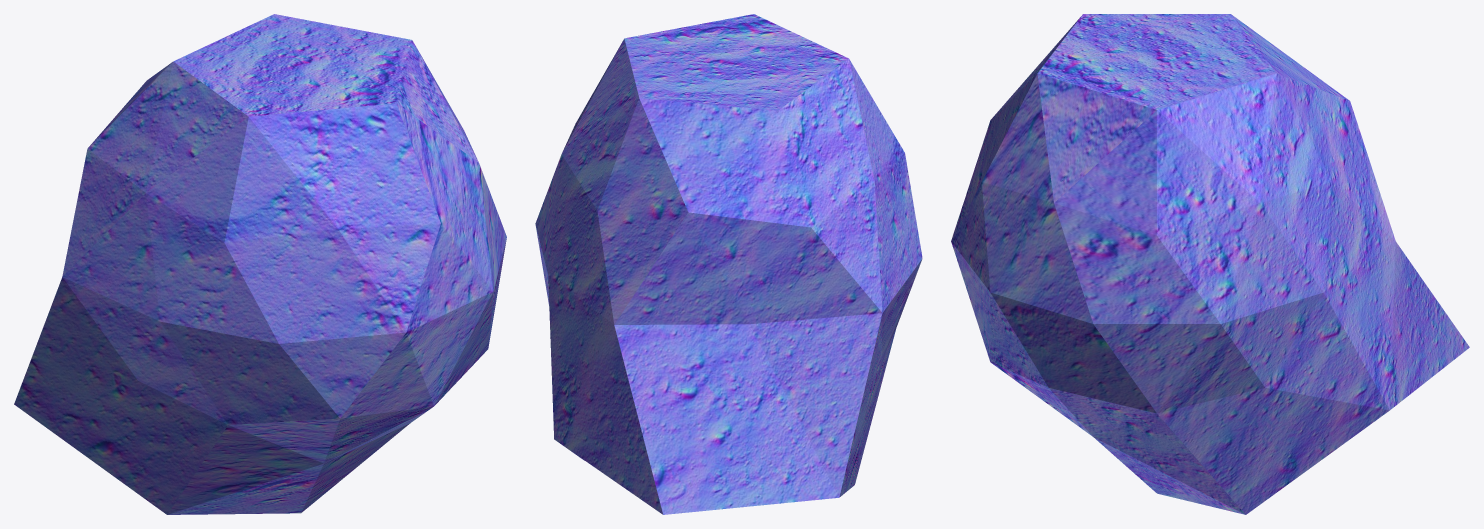
Rendered from bigasteroid0_LOD4.fbx.
3 views of the same model, side by side, from view 1: azimuth 30°, elevation 25°; view 2: azimuth 150°, elevation 25°; view 3: azimuth 270°, elevation 25° (orthographic). The views are drawn at different scales.
Visible parts, largest first — view 1: Icosphere; view 2: Icosphere; view 3: Icosphere.
Boxes of the visible parts, left/top/right/bottom form: Icosphere: left=14, top=14, right=506, bottom=514; Icosphere: left=535, top=14, right=922, bottom=514; Icosphere: left=951, top=14, right=1469, bottom=514.
Size of the model in its own units: 206 by 235 by 252.
